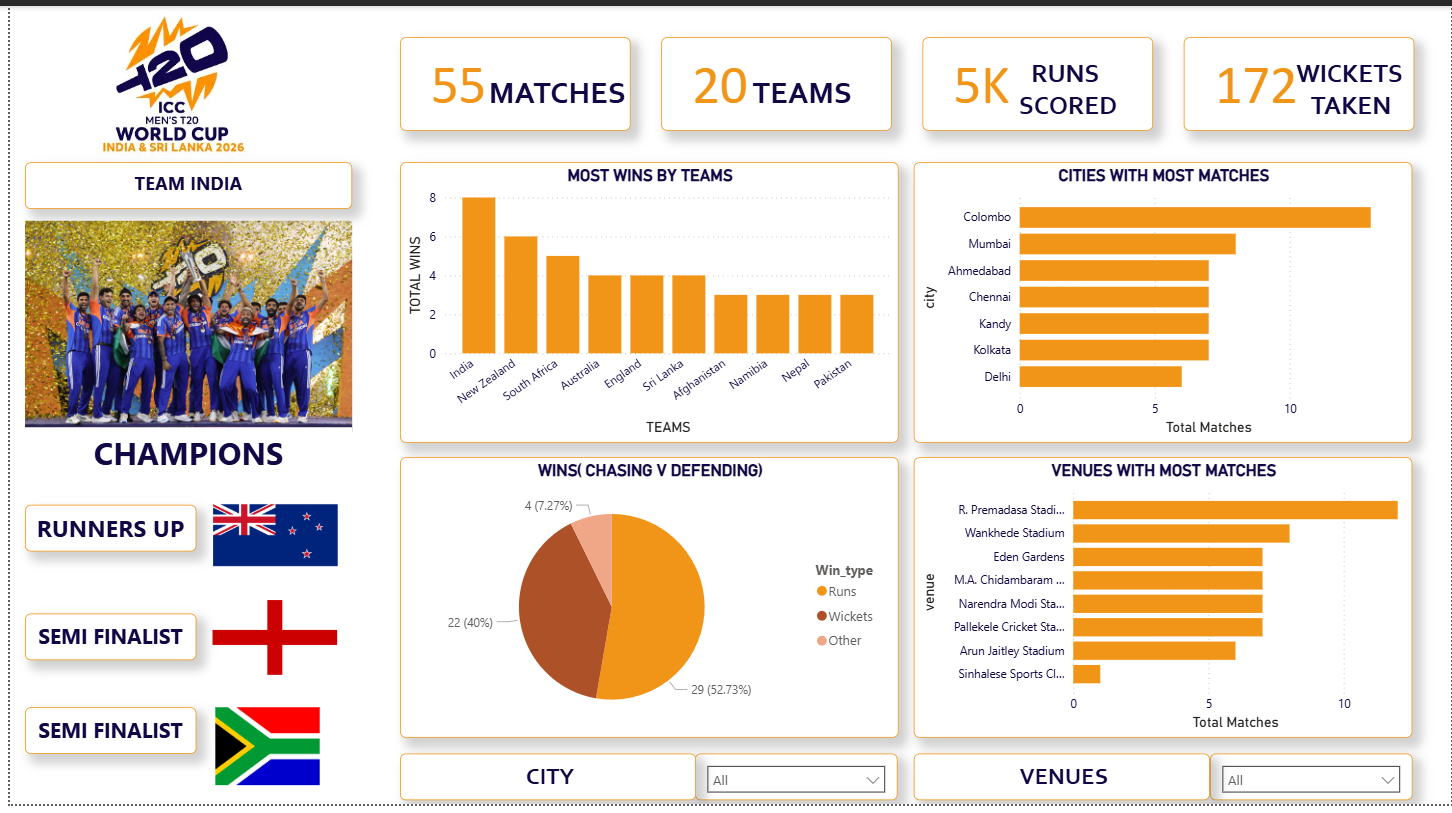

The dashboard page shown, as its layout file describes it:
{"tool":"powerbi","page":{"name":"Page 1","canvas":[1480,820],"ordinal":0},"visuals":[{"type":"image","box":[0,0,336,160],"z":0},{"type":"group","id":"g1","title":"Group 1","box":[400,32,283.8,112],"z":0,"group":"g3"},{"type":"cardVisual","fields":{"Data":["matches.Total Matches"]},"box":[400,32,236.5,96],"z":0,"group":"g1"},{"type":"group","id":"g2","title":"Group 4","box":[668,32,804,112],"z":1000,"group":"g3"},{"type":"cardVisual","fields":{"Data":["Count(matches.team2)"]},"box":[668,32,236.5,96],"z":1000,"group":"g4"},{"type":"clusteredColumnChart","title":"MOST WINS BY TEAMS","fields":{"Category":["matches.team1"],"Y":["CountNonNull(matches.winner)"]},"box":[400,160,512,288],"z":1000},{"type":"cardVisual","fields":{"Data":["matches.Total Runs"]},"box":[936,32,236.5,96],"z":2000,"group":"g5"},{"type":"clusteredBarChart","title":"CITIES WITH MOST MATCHES","fields":{"Category":["matches.city"],"Y":["matches.Total Matches"]},"box":[928,160,512,288],"z":2000},{"type":"cardVisual","fields":{"Data":["matches.Total Wickets"]},"box":[1204,32,236.5,96],"z":3000,"group":"g2"},{"type":"clusteredBarChart","title":"VENUES WITH MOST MATCHES","fields":{"Y":["matches.Total Matches"],"Category":["matches.venue"]},"box":[928,464,512,288],"z":3000},{"type":"pieChart","title":"WINS( CHASING V DEFENDING)","fields":{"Y":["CountNonNull(matches.winner)"],"Category":["matches.Win_type"]},"box":[400,464,512,288],"z":4000},{"type":"textbox","box":[431.5,64,252.2,80],"z":5000,"group":"g1"},{"type":"slicer","fields":{"Values":["matches.venue"]},"box":[1232,768,208,48],"z":5000},{"type":"textbox","box":[683.8,64,252.2,80],"z":6000,"group":"g4"},{"type":"textbox","box":[928,768,304,48],"z":6000},{"type":"textbox","box":[951.8,48,268,80],"z":7000,"group":"g5"},{"type":"slicer","fields":{"Values":["matches.city"]},"box":[704,768,208,48],"z":7000},{"type":"textbox","box":[1196.1,48,268,80],"z":8000,"group":"g2"},{"type":"textbox","box":[400,768,304,48],"z":8000},{"type":"group","id":"g3","title":"Group 5","box":[400,32,1072,112],"z":9000},{"type":"image","box":[16,192,336,272],"z":10000},{"type":"textbox","box":[16,432,336,64],"z":11000},{"type":"textbox","box":[16,160,336,48],"z":12000},{"type":"image","box":[192,496,160,96],"z":13000},{"type":"textbox","box":[16,512,176,48],"z":14000},{"type":"image","box":[208,608,128,80],"z":15000},{"type":"textbox","box":[16,624,176,48],"z":16000},{"type":"image","box":[160,720,208,80],"z":17000},{"type":"textbox","box":[16,720,176,48],"z":18000},{"type":"group","id":"g4","title":"Group 2","box":[668,32,268,112],"z":18002,"group":"g5"},{"type":"group","id":"g5","title":"Group 3","box":[668,32,551.8,112],"z":18003,"group":"g2"}]}

Visuals, with their boxes in screenshot pixels (x1, y1, x2, y2), scaled from the page's 1480x820 canvas onto the 1452x813 screenshot:
image: pyautogui.locateOnScreen(0, 0, 330, 159)
"Group 1" group: pyautogui.locateOnScreen(392, 32, 671, 143)
cardVisual - matches.Total Matches: pyautogui.locateOnScreen(392, 32, 624, 127)
"Group 4" group: pyautogui.locateOnScreen(655, 32, 1444, 143)
cardVisual - Count(matches.team2): pyautogui.locateOnScreen(655, 32, 887, 127)
"MOST WINS BY TEAMS" clusteredColumnChart: pyautogui.locateOnScreen(392, 159, 895, 444)
cardVisual - matches.Total Runs: pyautogui.locateOnScreen(918, 32, 1150, 127)
"CITIES WITH MOST MATCHES" clusteredBarChart: pyautogui.locateOnScreen(910, 159, 1413, 444)
cardVisual - matches.Total Wickets: pyautogui.locateOnScreen(1181, 32, 1413, 127)
"VENUES WITH MOST MATCHES" clusteredBarChart: pyautogui.locateOnScreen(910, 460, 1413, 746)
"WINS( CHASING V DEFENDING)" pieChart: pyautogui.locateOnScreen(392, 460, 895, 746)
textbox: pyautogui.locateOnScreen(423, 63, 671, 143)
slicer - matches.venue: pyautogui.locateOnScreen(1209, 761, 1413, 809)
textbox: pyautogui.locateOnScreen(671, 63, 918, 143)
textbox: pyautogui.locateOnScreen(910, 761, 1209, 809)
textbox: pyautogui.locateOnScreen(934, 48, 1197, 127)
slicer - matches.city: pyautogui.locateOnScreen(691, 761, 895, 809)
textbox: pyautogui.locateOnScreen(1173, 48, 1436, 127)
textbox: pyautogui.locateOnScreen(392, 761, 691, 809)
"Group 5" group: pyautogui.locateOnScreen(392, 32, 1444, 143)
image: pyautogui.locateOnScreen(16, 190, 345, 460)
textbox: pyautogui.locateOnScreen(16, 428, 345, 492)
textbox: pyautogui.locateOnScreen(16, 159, 345, 206)
image: pyautogui.locateOnScreen(188, 492, 345, 587)
textbox: pyautogui.locateOnScreen(16, 508, 188, 555)
image: pyautogui.locateOnScreen(204, 603, 330, 682)
textbox: pyautogui.locateOnScreen(16, 619, 188, 666)
image: pyautogui.locateOnScreen(157, 714, 361, 793)
textbox: pyautogui.locateOnScreen(16, 714, 188, 761)
"Group 2" group: pyautogui.locateOnScreen(655, 32, 918, 143)
"Group 3" group: pyautogui.locateOnScreen(655, 32, 1197, 143)
